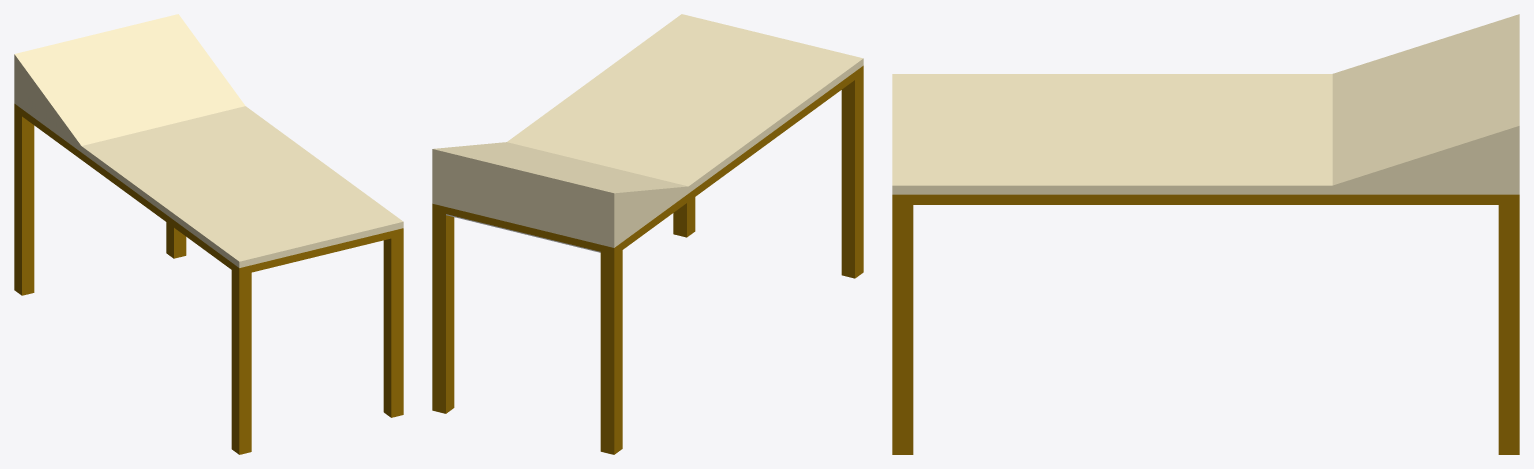
Rendered from hospitalBedDaybed.glb.
3 views of the same model, side by side, from view 1: azimuth 30°, elevation 25°; view 2: azimuth 150°, elevation 25°; view 3: azimuth 270°, elevation 25° (orthographic). The views are drawn at different scales.
Visible parts, largest first — view 1: Layer0_001; view 2: Layer0_001; view 3: Layer0_001.
Boxes of the visible parts, left/top/right/bottom form: Layer0_001: left=14, top=14, right=403, bottom=454; Layer0_001: left=432, top=14, right=863, bottom=454; Layer0_001: left=892, top=14, right=1519, bottom=454.
Bounding box in the file's own units: 31.5 × 43.31 × 74.8.
